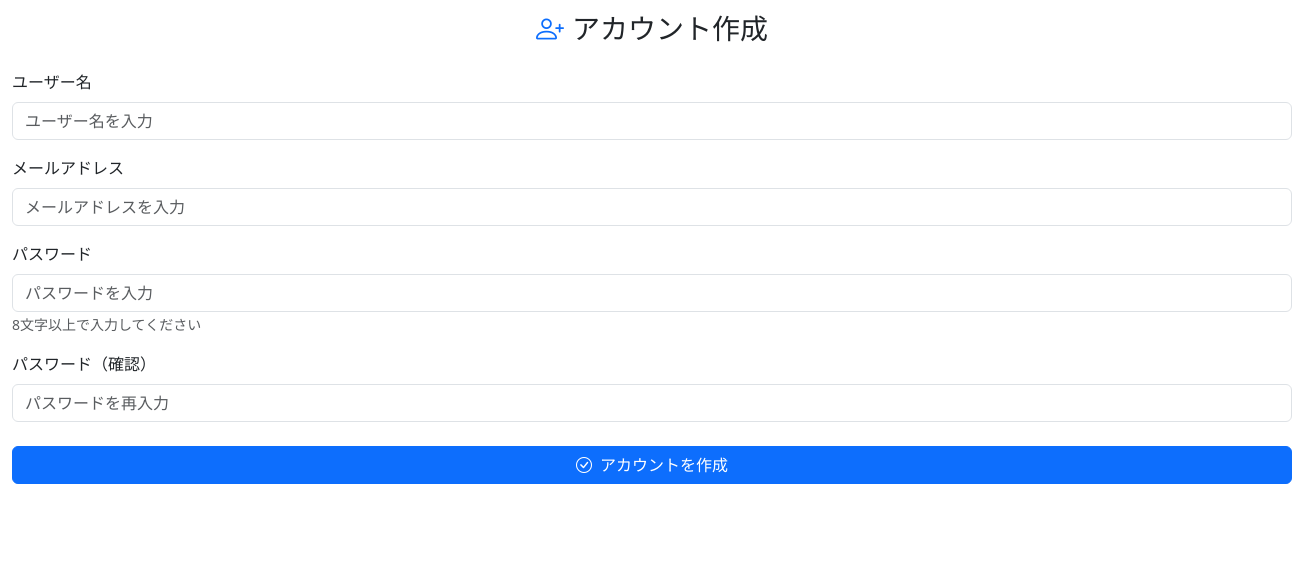
Test: Register コンポーネント › サーバー接続エラー時
Type "newuser" into the field with placeholder "ユーザー名を入力".
click(652, 121); type("newuser")  # box [12,102,1292,140]
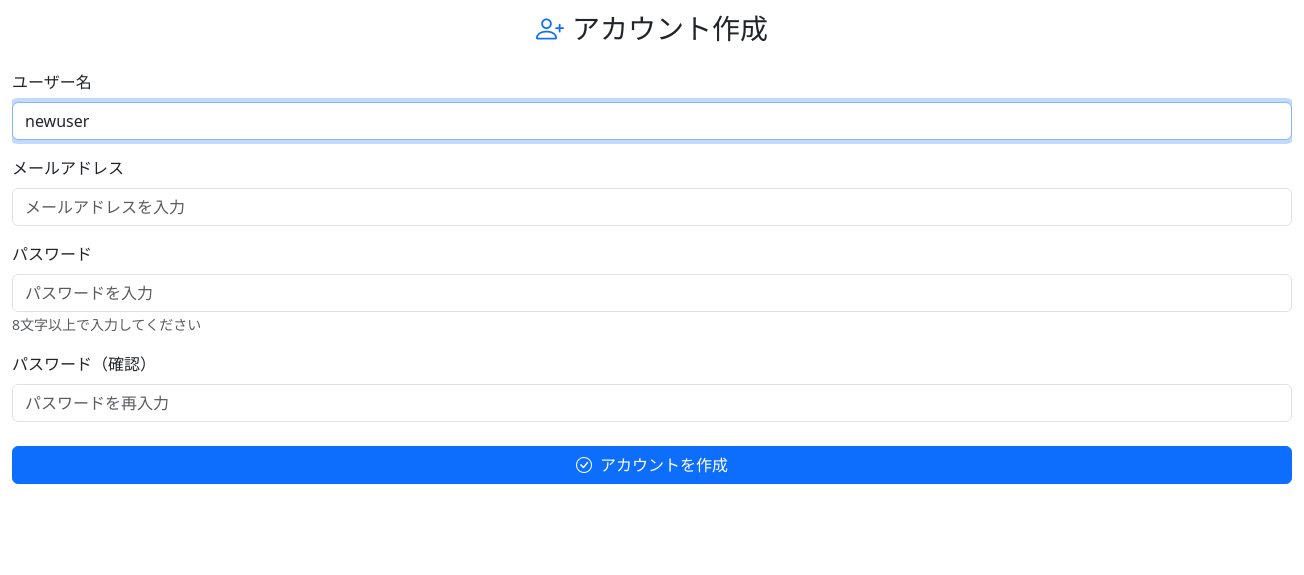
Type "password123" into the password field with placeholder "パスワードを入力".
click(652, 293); type("password123")  # box [12,274,1292,312]
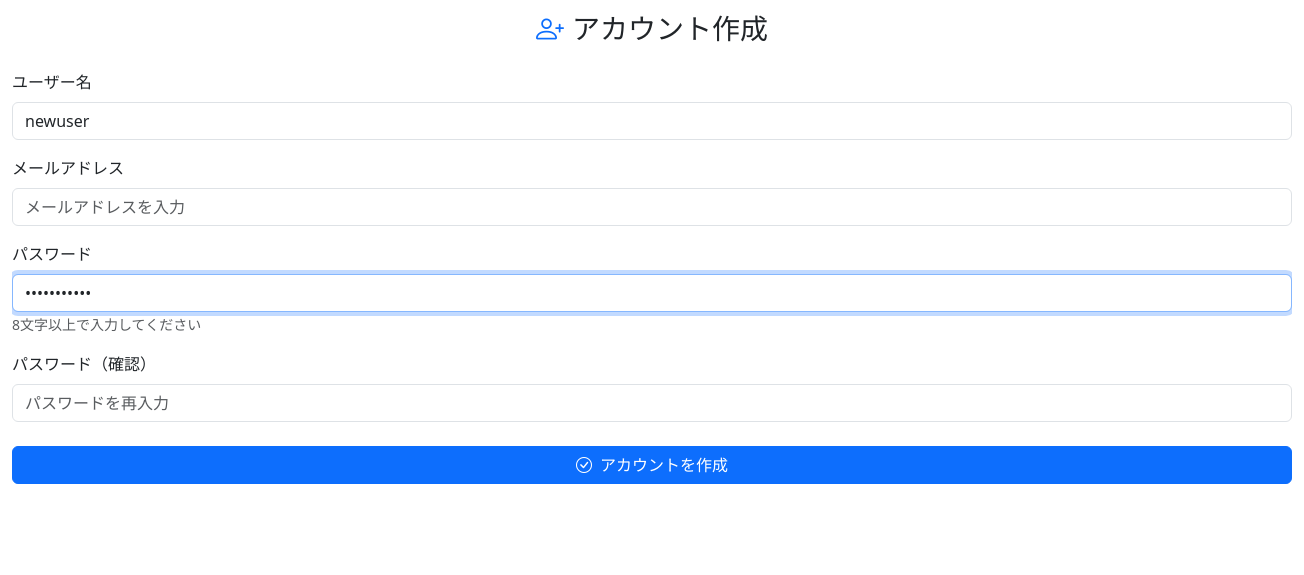
Type "password123" into the password field with placeholder "パスワードを再入力".
click(652, 403); type("password123")  # box [12,384,1292,422]
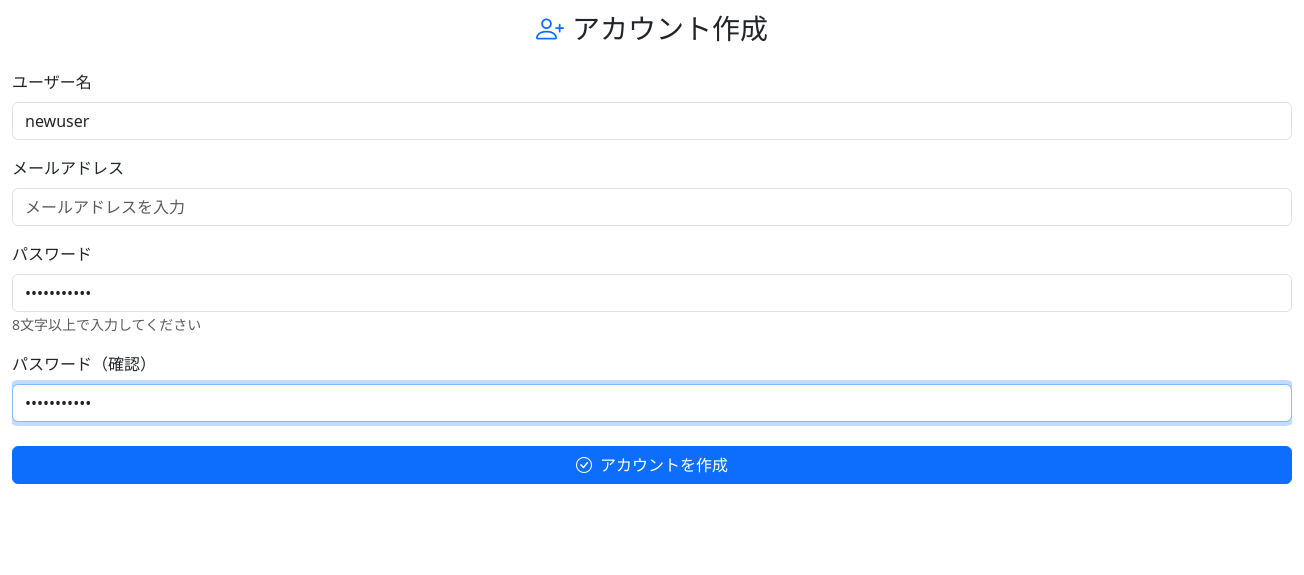
Click the button "アカウントを作成".
click(652, 465)  # box [12,446,1292,484]
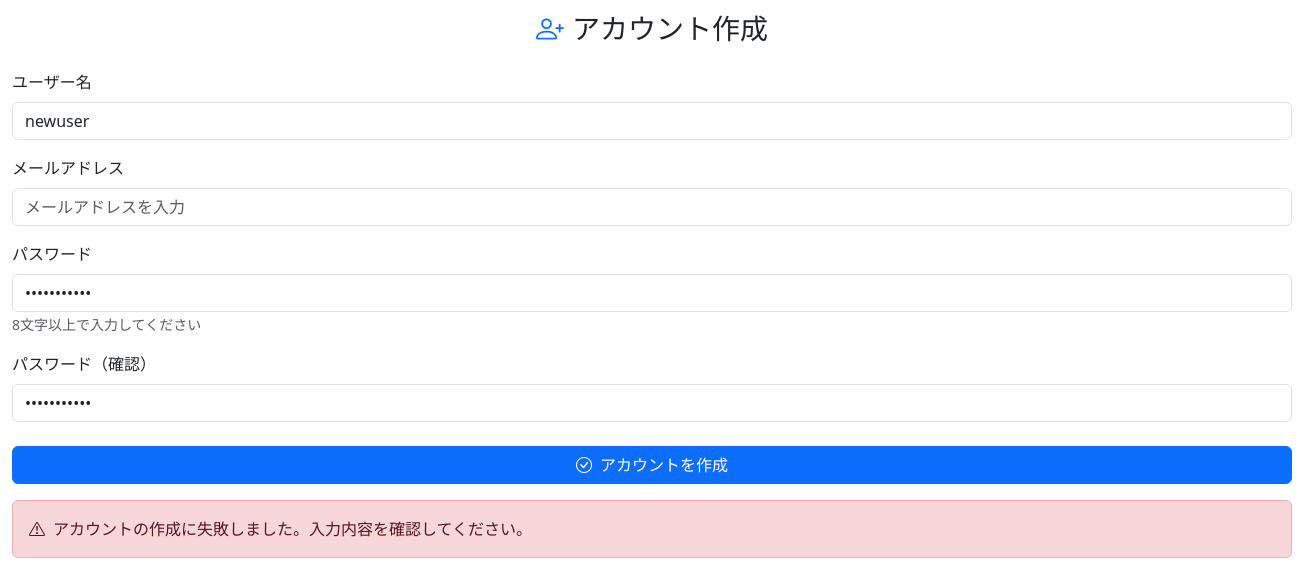
Check: the text "アカウントの作成に失敗しました。入力内容を確認してください。" is shown, box [12,500,1292,558]
